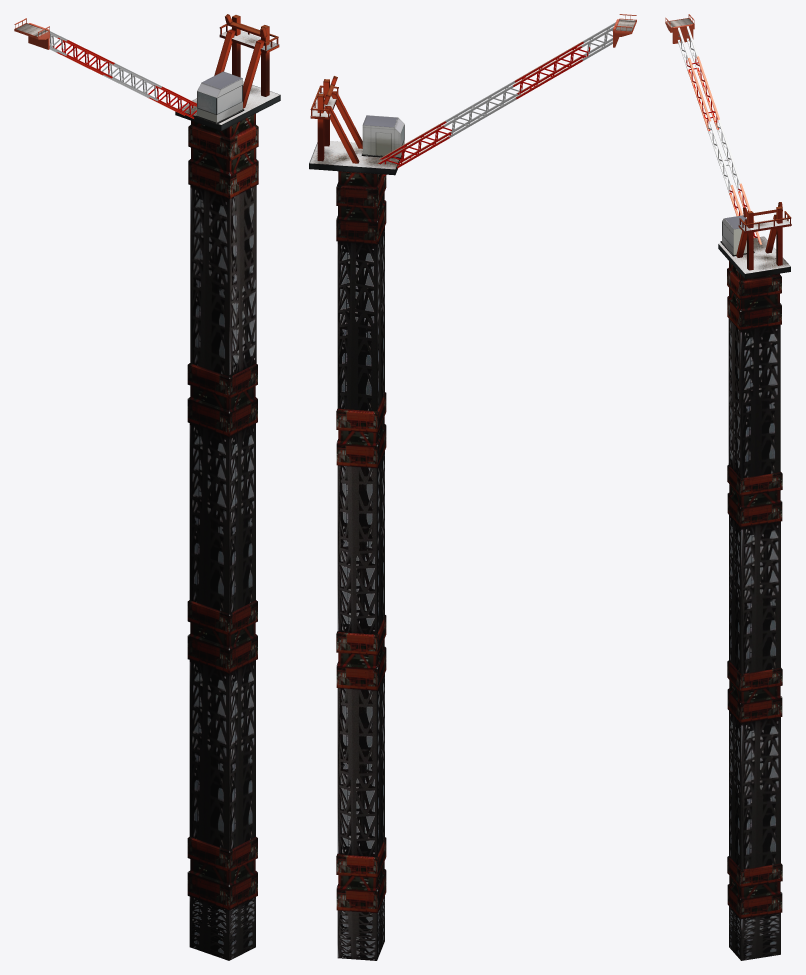
Rendered from kure-n1.obj.
3 renders of one model, left to right at view 1: azimuth 30°, elevation 25°; view 2: azimuth 150°, elevation 25°; view 3: azimuth 270°, elevation 25°, orthographic. The views are drawn at different scales.
Size of the model in its own units: 47.4 by 153 by 20.9.
Materials: 3 (3 with a texture image).
